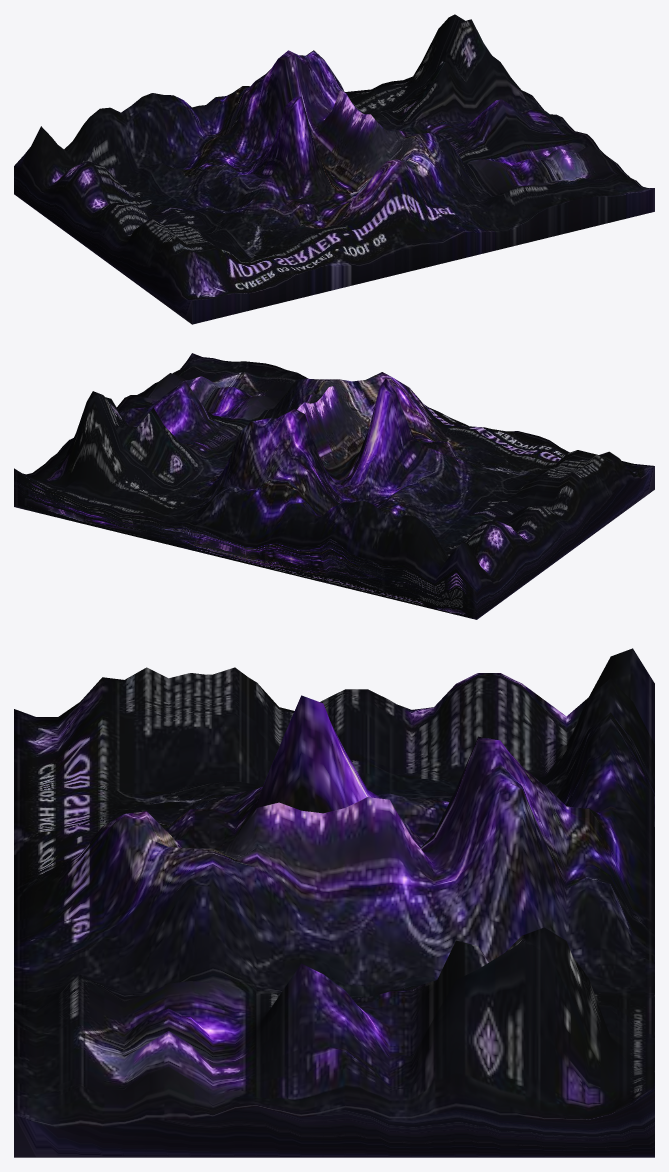
The model's file is CAREER_03_Tool_08_Void_Server.glb.
3 renders of one model, top to bottom at view 1: azimuth 30°, elevation 25°; view 2: azimuth 150°, elevation 25°; view 3: azimuth 270°, elevation 25°, orthographic. The views are drawn at different scales.
Visible parts, largest first — view 1: CAREER_03_Tool_08_Void_Server; view 2: CAREER_03_Tool_08_Void_Server; view 3: CAREER_03_Tool_08_Void_Server.
Part boxes in pixels (bbox=[...]): CAREER_03_Tool_08_Void_Server: bbox=[14, 14, 654, 324]; CAREER_03_Tool_08_Void_Server: bbox=[14, 353, 654, 619]; CAREER_03_Tool_08_Void_Server: bbox=[14, 648, 654, 1157].
Bounding box in the file's own units: 2 × 0.51 × 1.33.
Materials: 1 (1 with a texture image).
